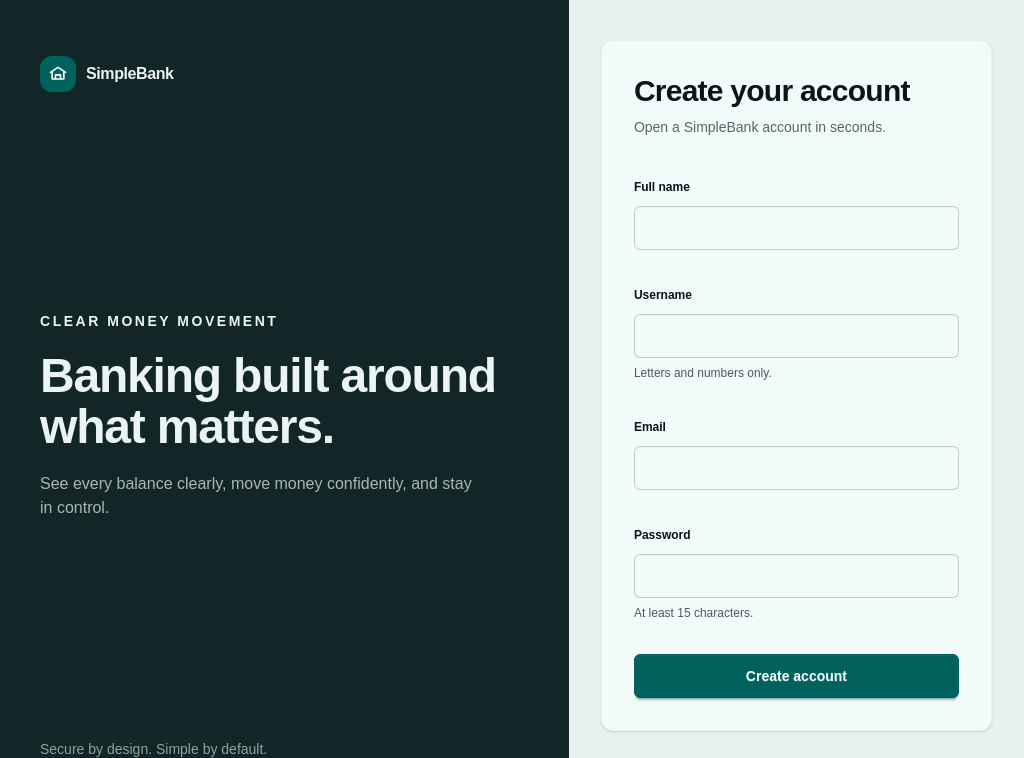
Test case: RegisterPage › blocks invalid submission, focuses the first invalid field, and clears its error on edit
In the field labelled "Username": (796, 336) [634,314,959,358], type "alice01"
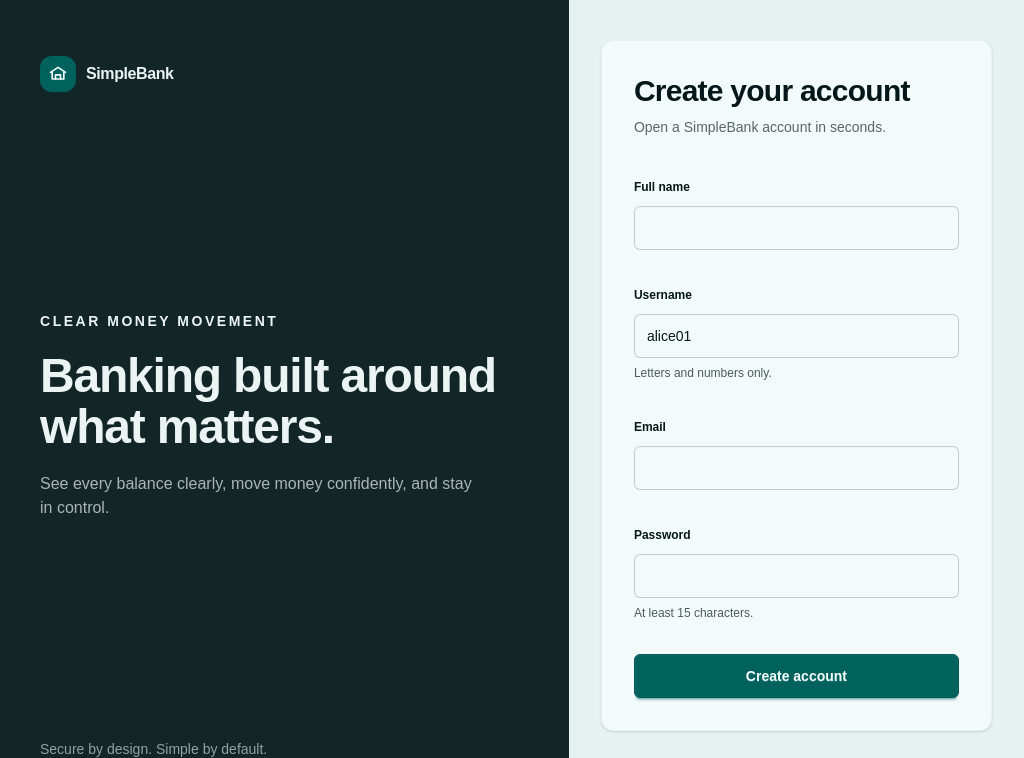
In the field labelled "Email": (796, 468) [634,446,959,490], type "alice@example.com"
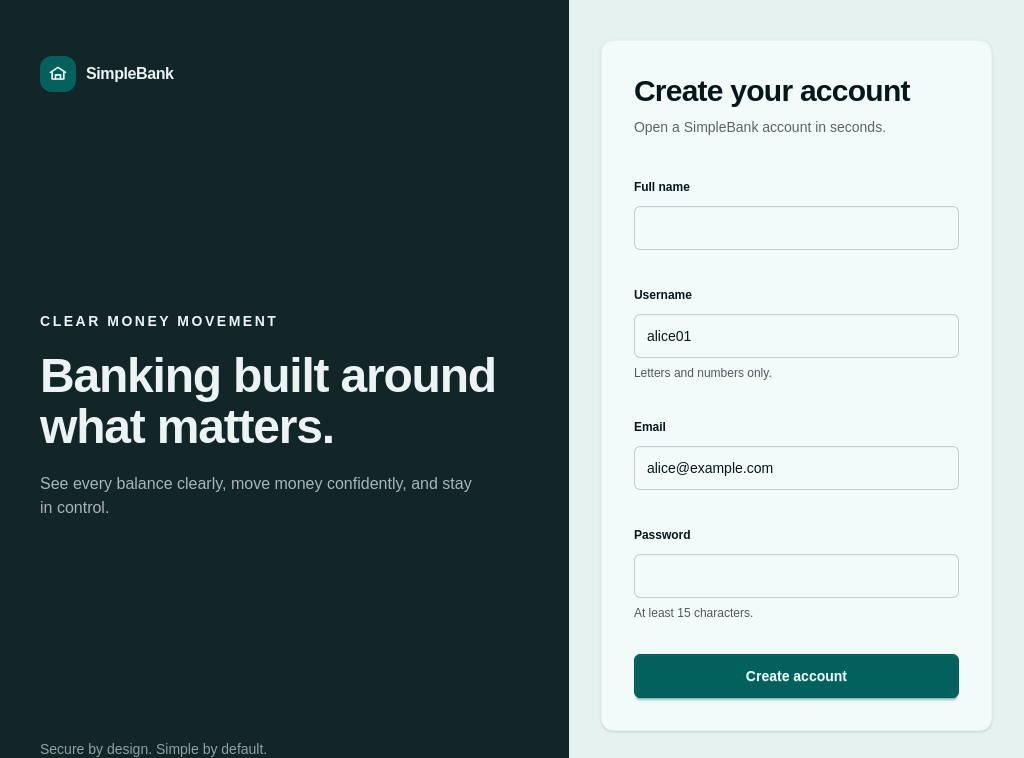
In the password field labelled "Password": (796, 576) [634,554,959,598], type "correct horse battery staple"
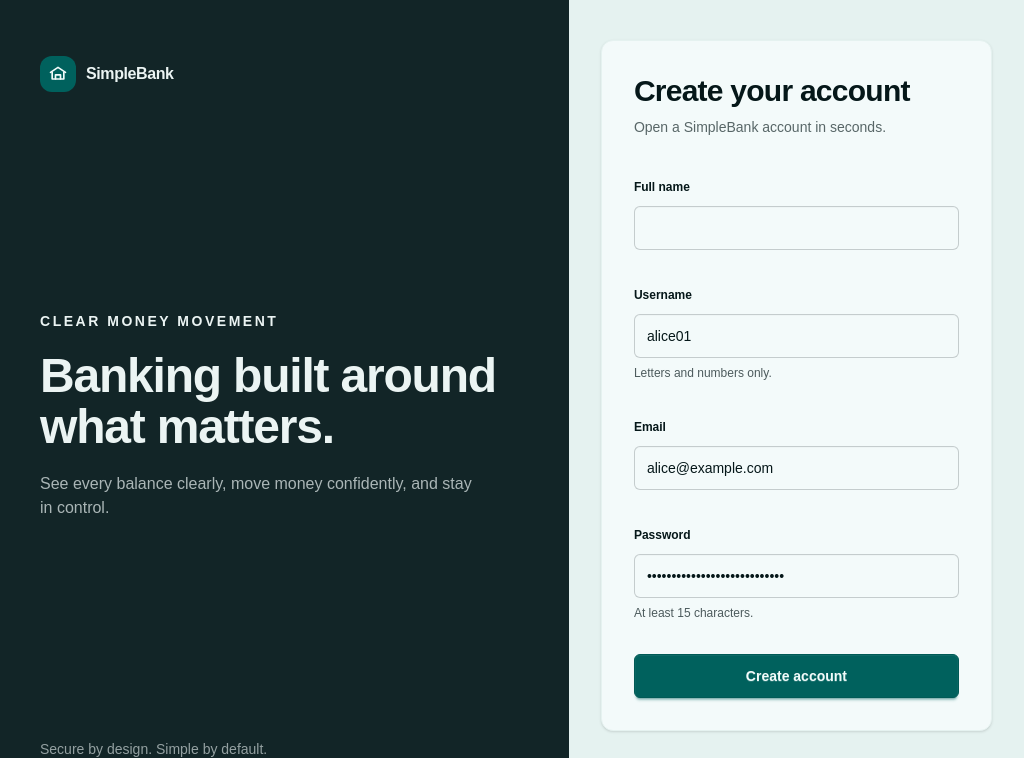
Submit the form named "Create account", box [634,166,959,698]
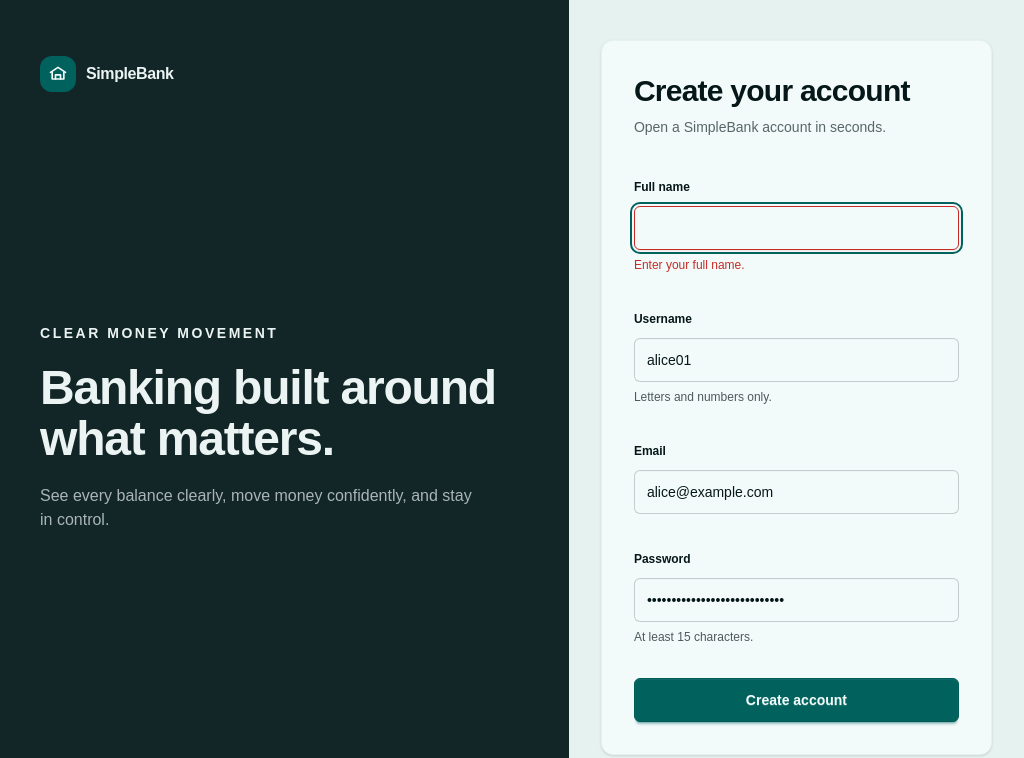
In the field labelled "Full name": (796, 228) [634,206,959,250], type "Alice Smith"
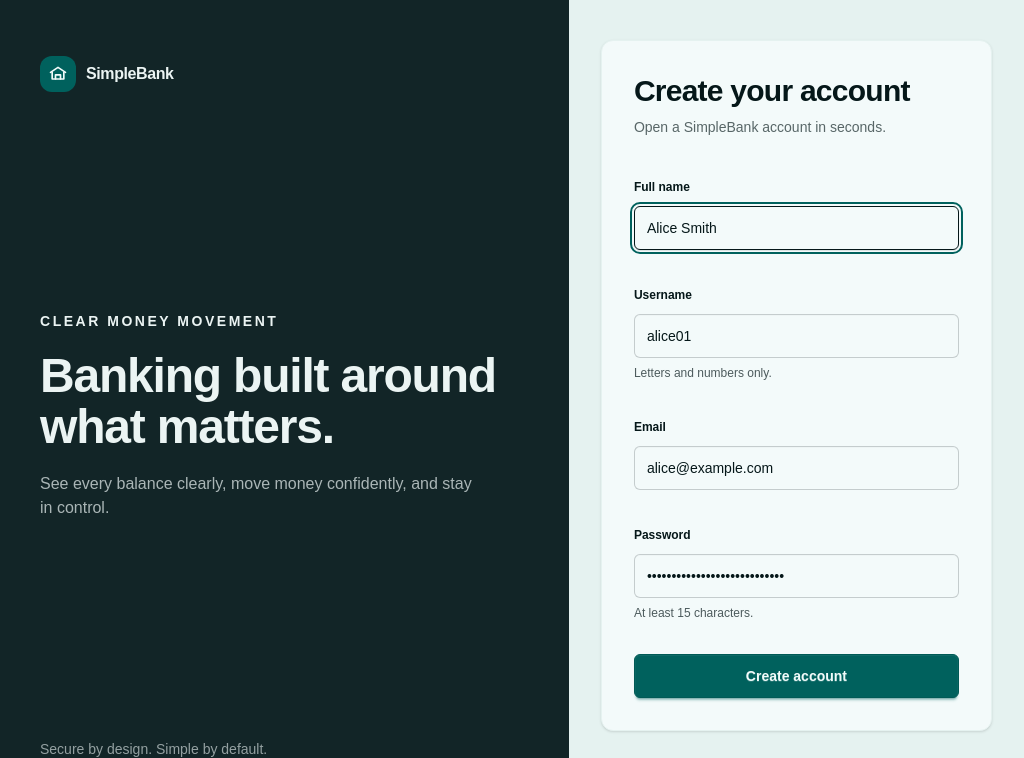
expect the text "Enter your full name." is gone: met
